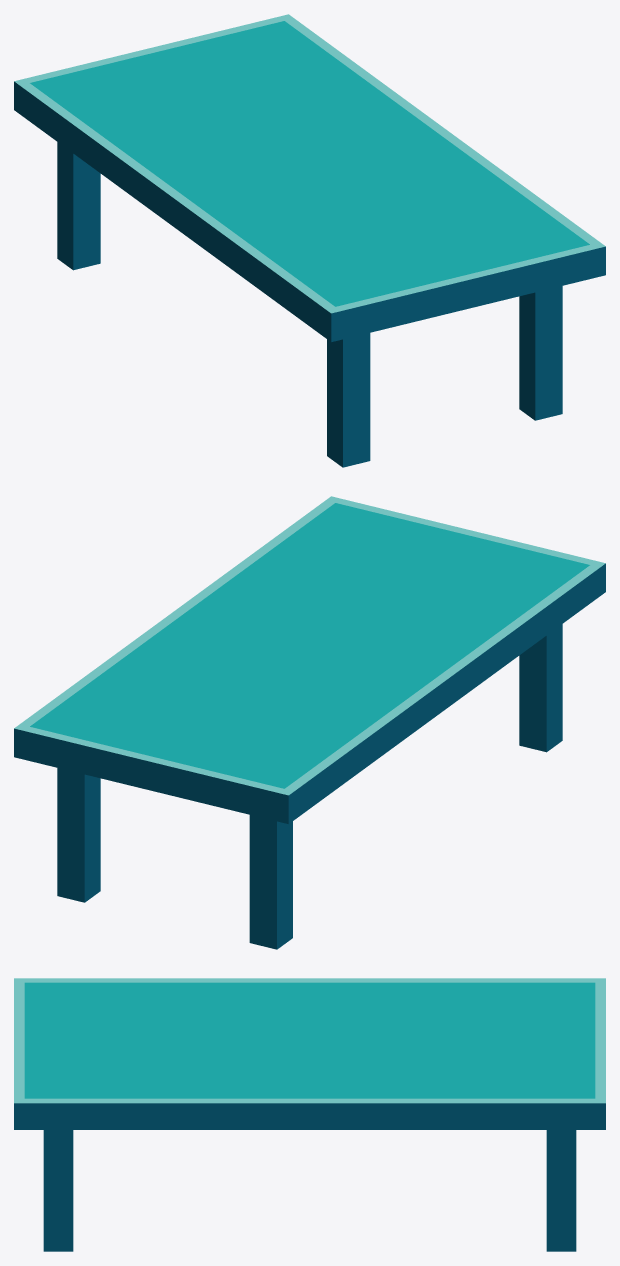
The model's file is EndTable_Blue.fbx.
3 renders of one model, top to bottom at view 1: azimuth 30°, elevation 25°; view 2: azimuth 150°, elevation 25°; view 3: azimuth 270°, elevation 25°, orthographic. The views are drawn at different scales.
Parts seen in each view (by area): view 1: Cube.033; view 2: Cube.033; view 3: Cube.033.
Part boxes in pixels (left/top/right/bottom): Cube.033: left=14, top=14, right=605, bottom=467; Cube.033: left=14, top=496, right=605, bottom=949; Cube.033: left=14, top=978, right=605, bottom=1251.
Bounding box in the file's own units: 100 × 60 × 200.
